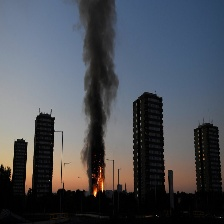fire: (86, 166, 106, 198)
smoke: (80, 1, 119, 170)
